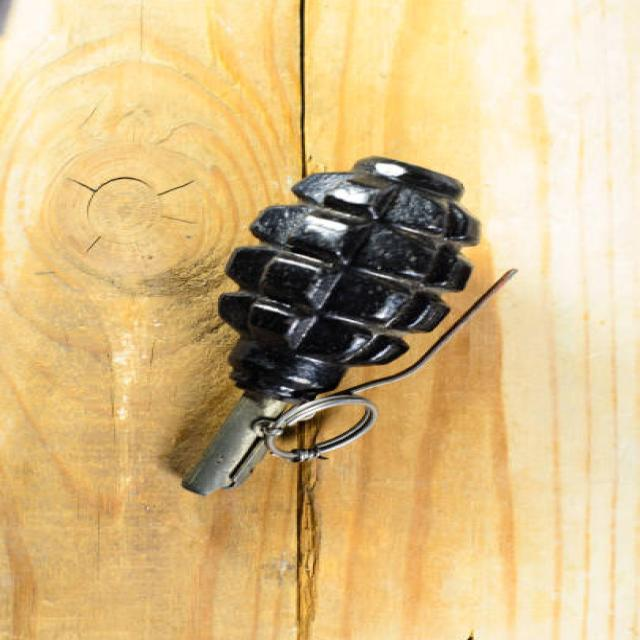grenade: (158, 124, 518, 504)
